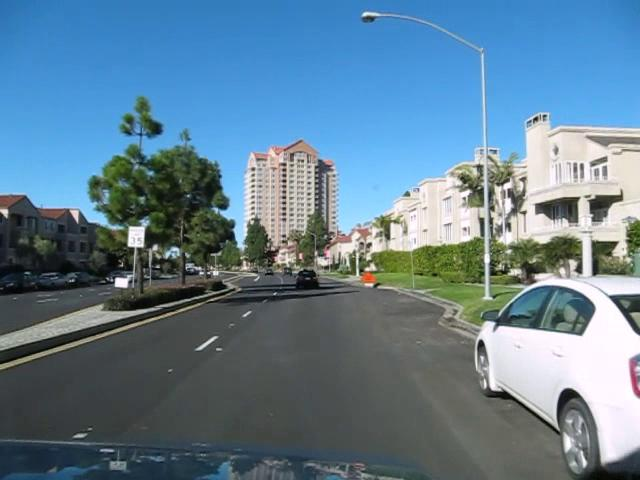speedLimit35: (127, 225, 145, 247)
